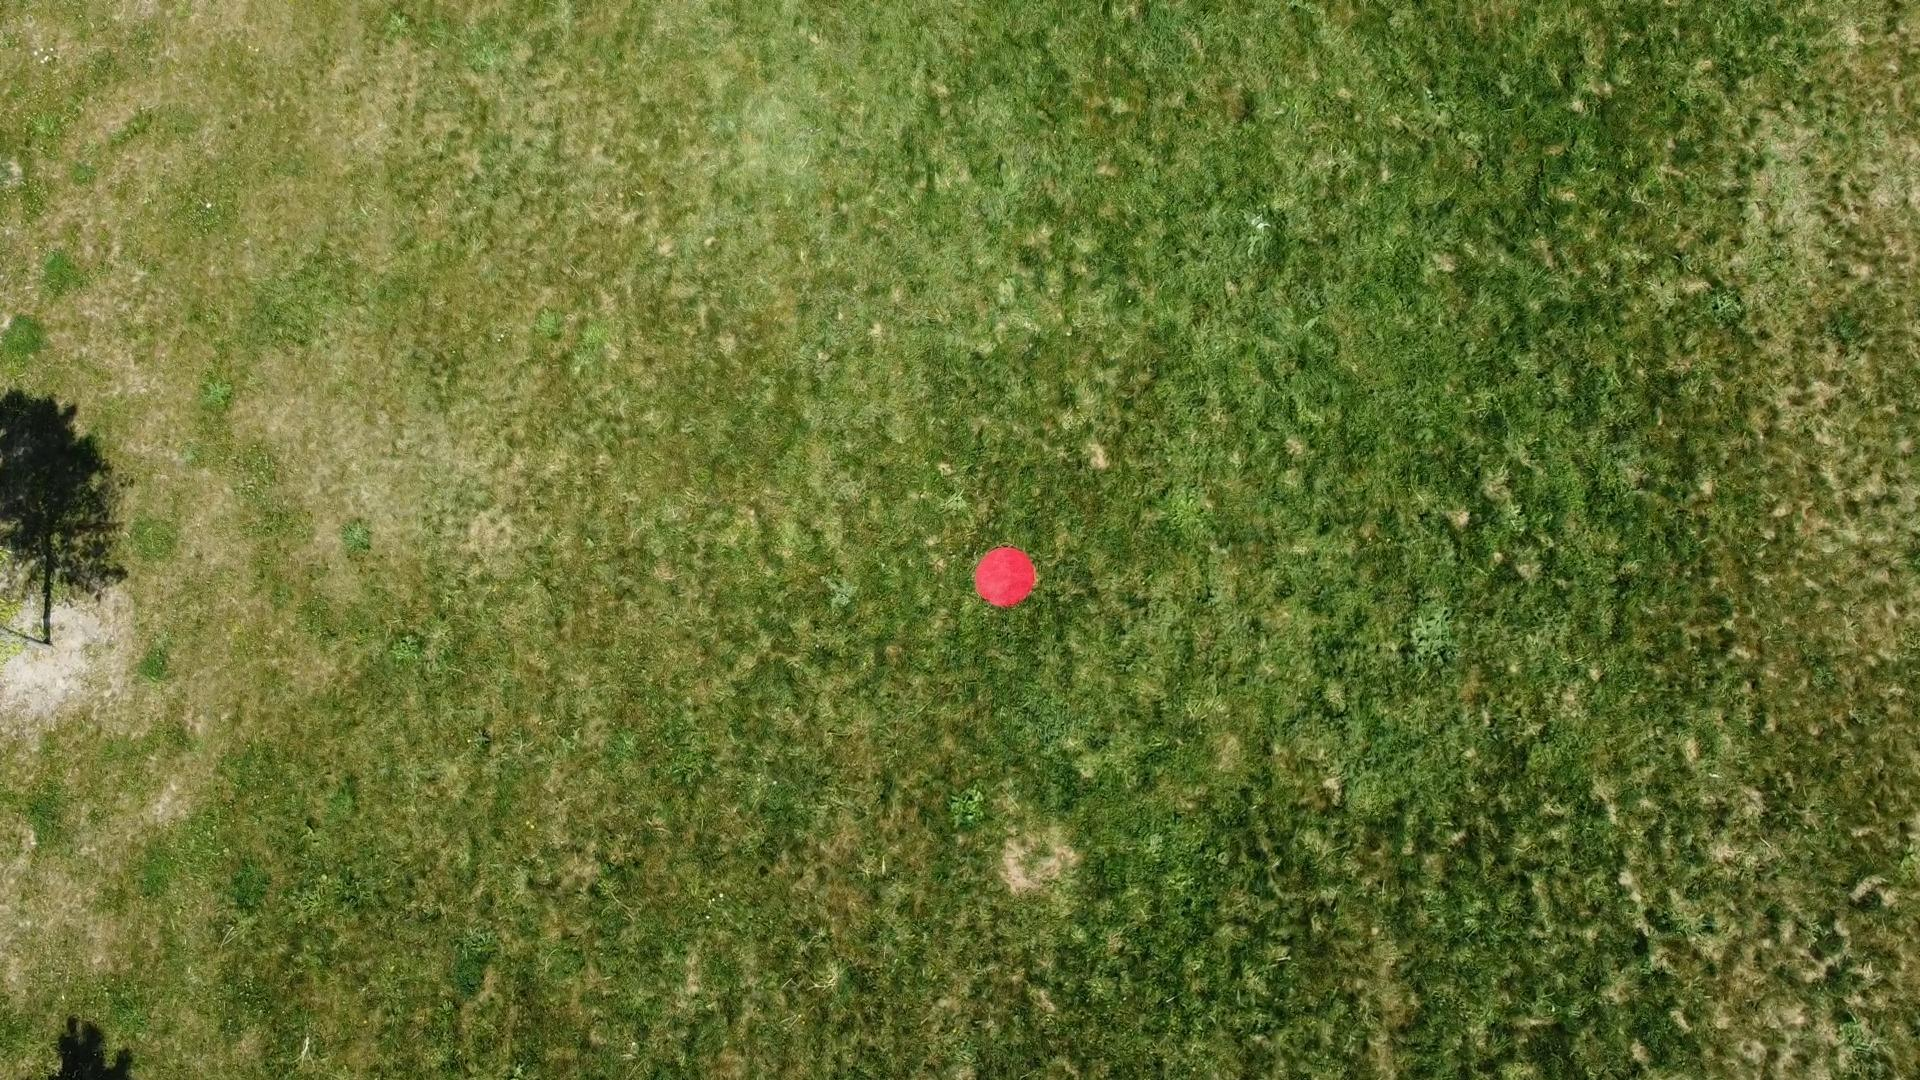Red: (972, 543, 1040, 609)
